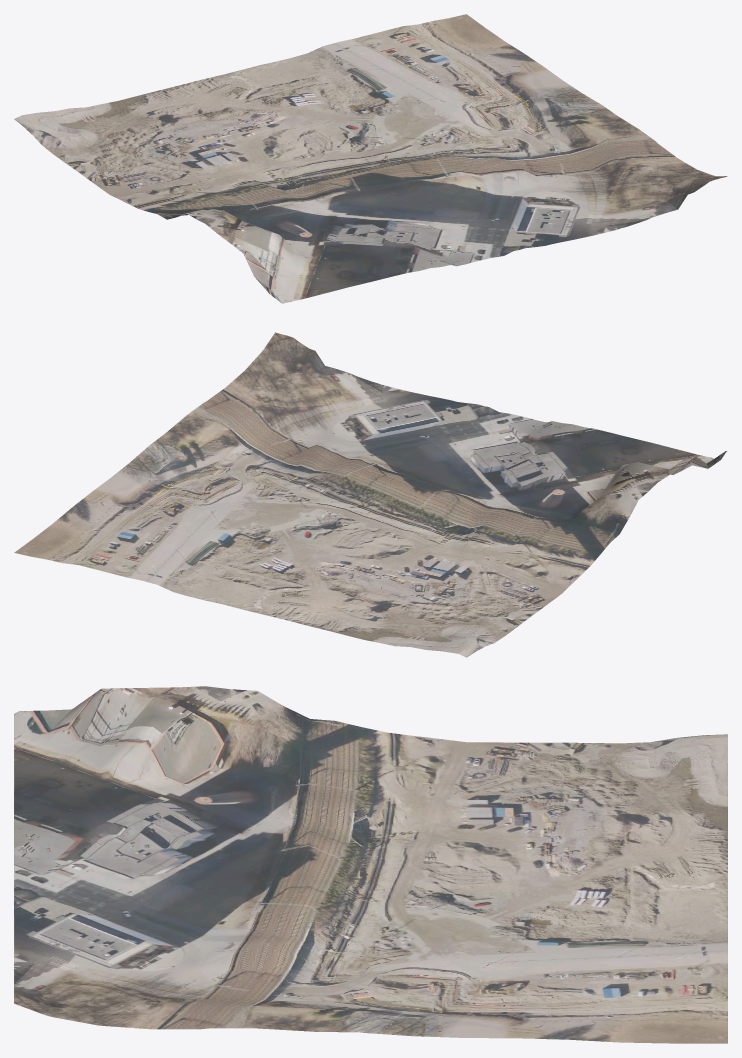
The model's file is CM_Terrain_24487387_6821841.fbx.
3 renders of one model, top to bottom at view 1: azimuth 30°, elevation 25°; view 2: azimuth 150°, elevation 25°; view 3: azimuth 270°, elevation 25°, orthographic. The views are drawn at different scales.
Visible parts, largest first — view 1: CM_Terrain_24487387_6821841_LOD0; view 2: CM_Terrain_24487387_6821841_LOD0; view 3: CM_Terrain_24487387_6821841_LOD0.
Boxes of the visible parts, x1,y1,x2,y2 form: CM_Terrain_24487387_6821841_LOD0: (14,14,727,303); CM_Terrain_24487387_6821841_LOD0: (14,332,727,657); CM_Terrain_24487387_6821841_LOD0: (14,686,727,1043).
Size of what is drawn, in the model's own units: 205 by 18.58 by 205.
